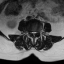CCS_normal: (33, 30, 35, 38)
LFS_severe_stenosis: (36, 30, 38, 34)
LLS_stenosis: (35, 30, 36, 35)
RFS_severe_stenosis: (29, 30, 31, 34)
RLS_stenosis: (31, 30, 33, 34)
